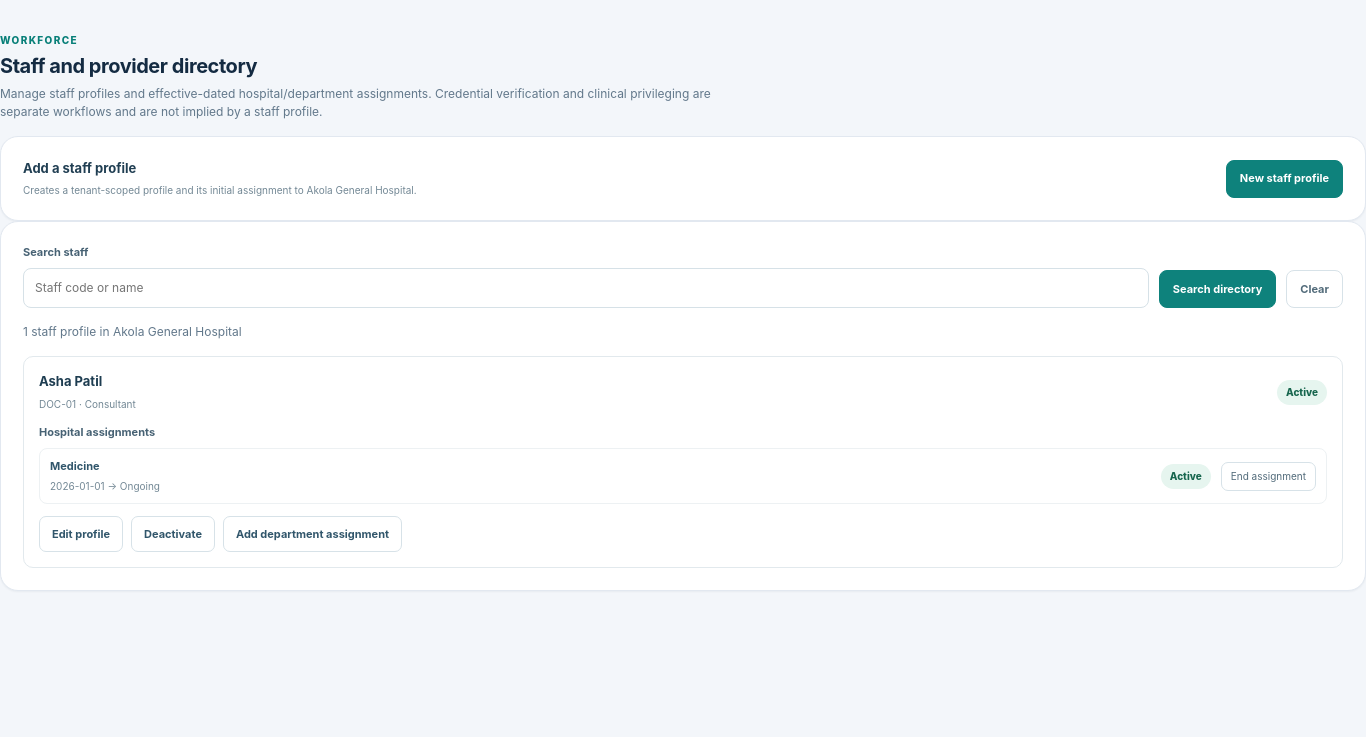
Test: staff management workspace › creates a staff profile with an initial department assignment
The width and height of the screenshot is (1366, 737).
Click the button "New staff profile" at (1284, 178), box [1226,160,1343,198]
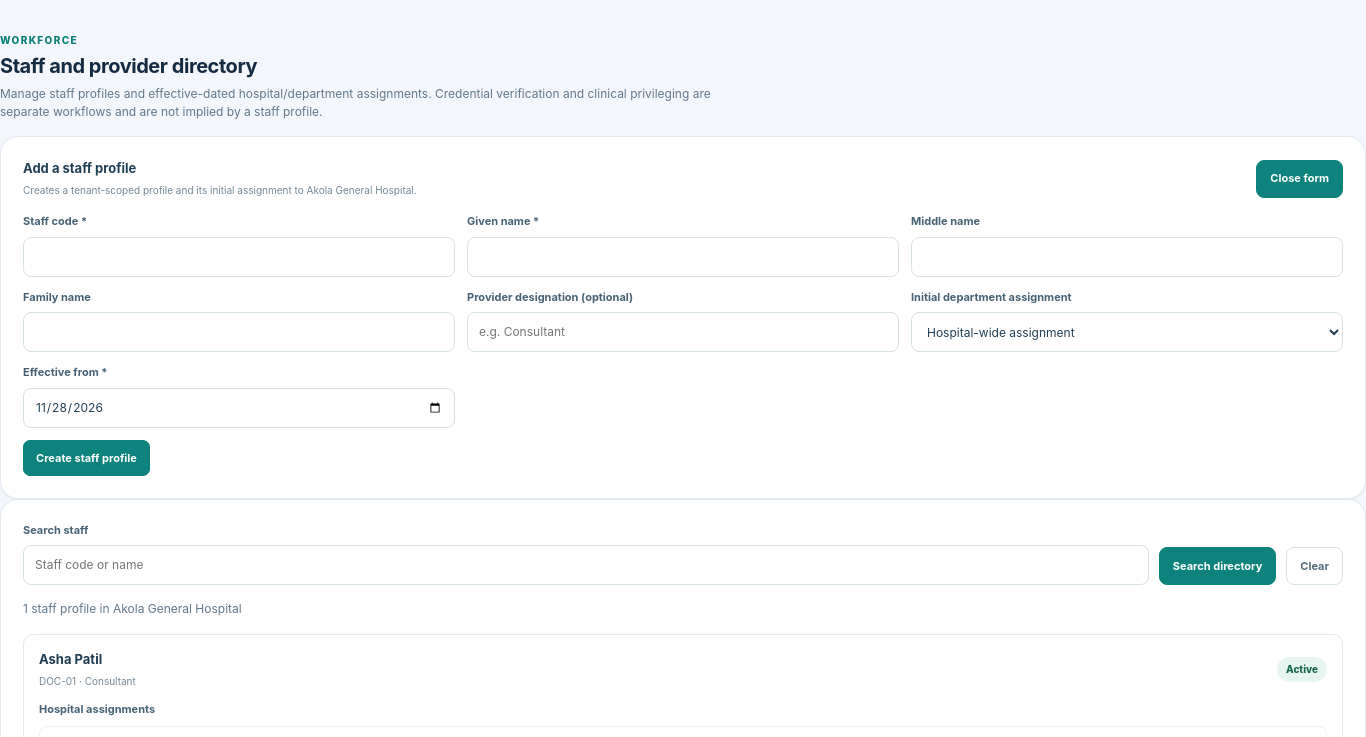
Type "DOC-02" into the field labelled "Staff code *" at (239, 257), box [23,237,455,277]
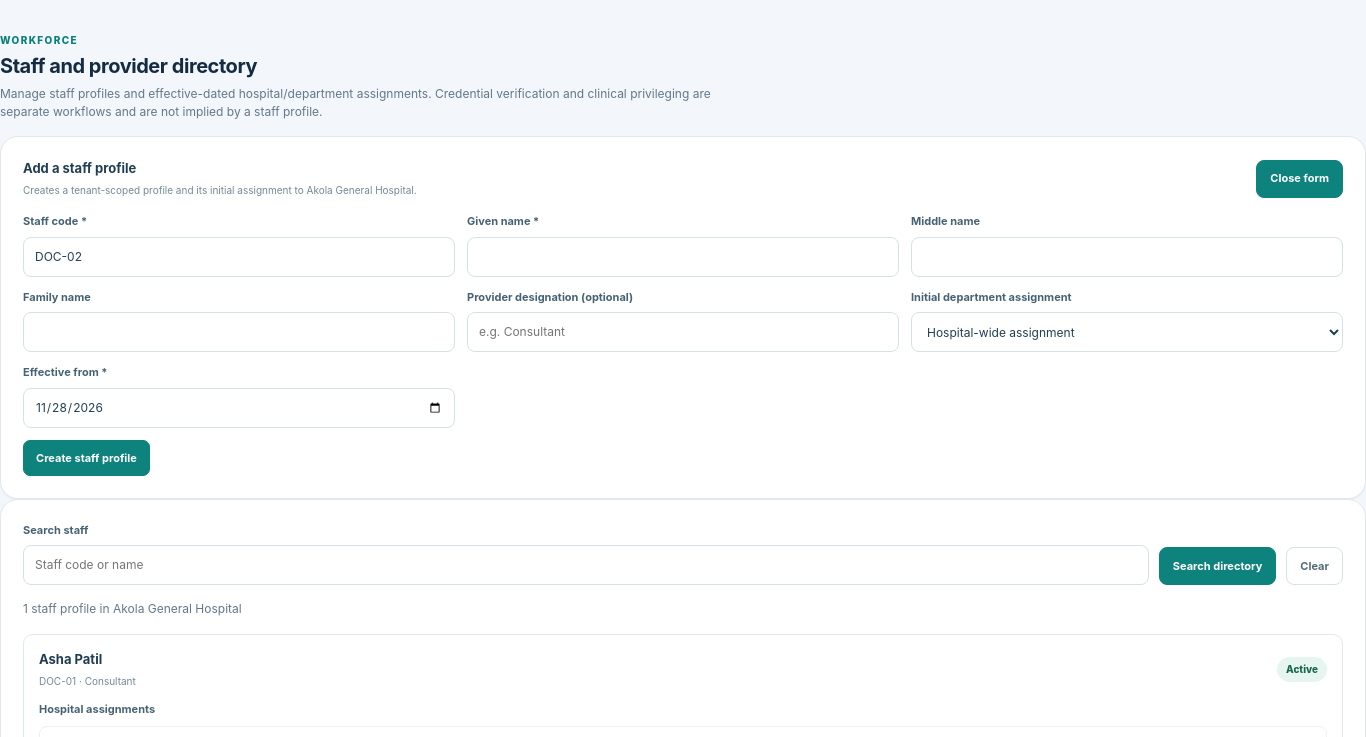
Type "Ravi" into the field labelled "Given name *" at (683, 257), box [467,237,899,277]
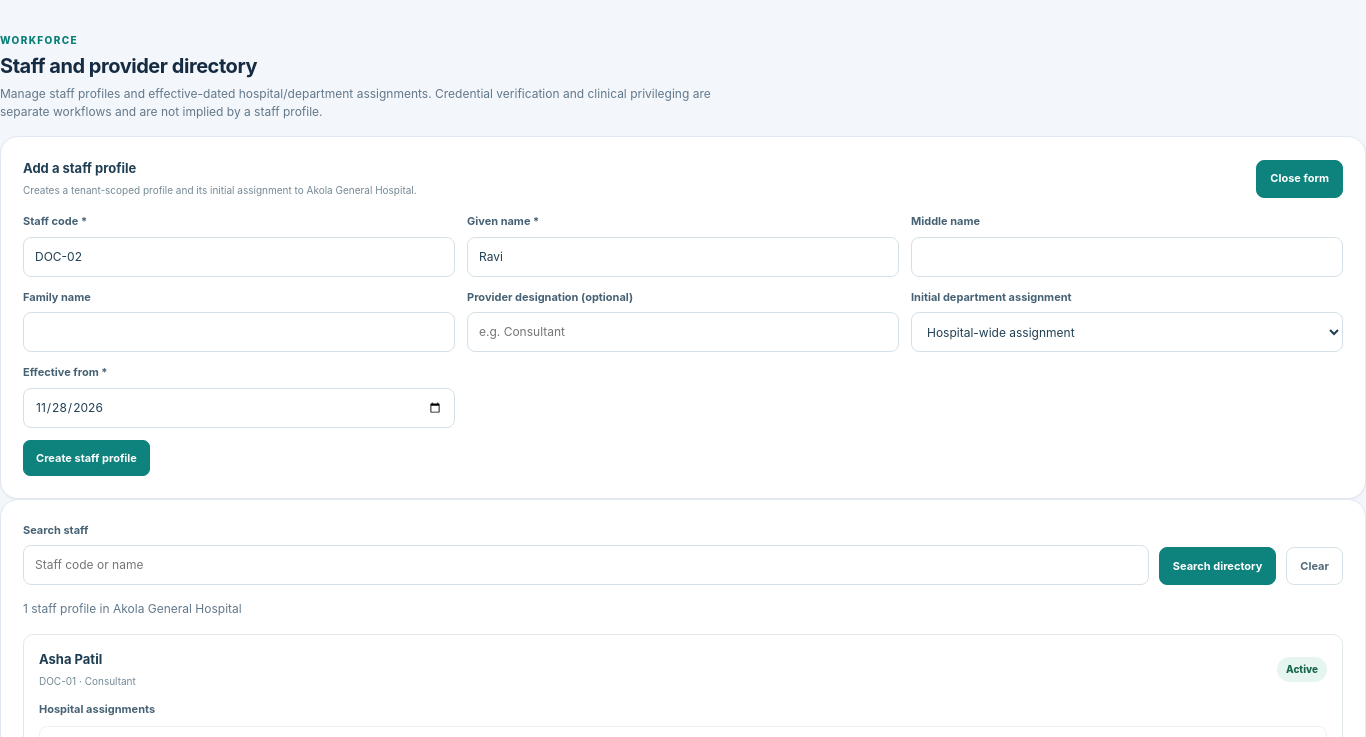
Select "Medicine" in the dropdown labelled "Initial department assignment" at (1127, 332), box [911,312,1343,352]
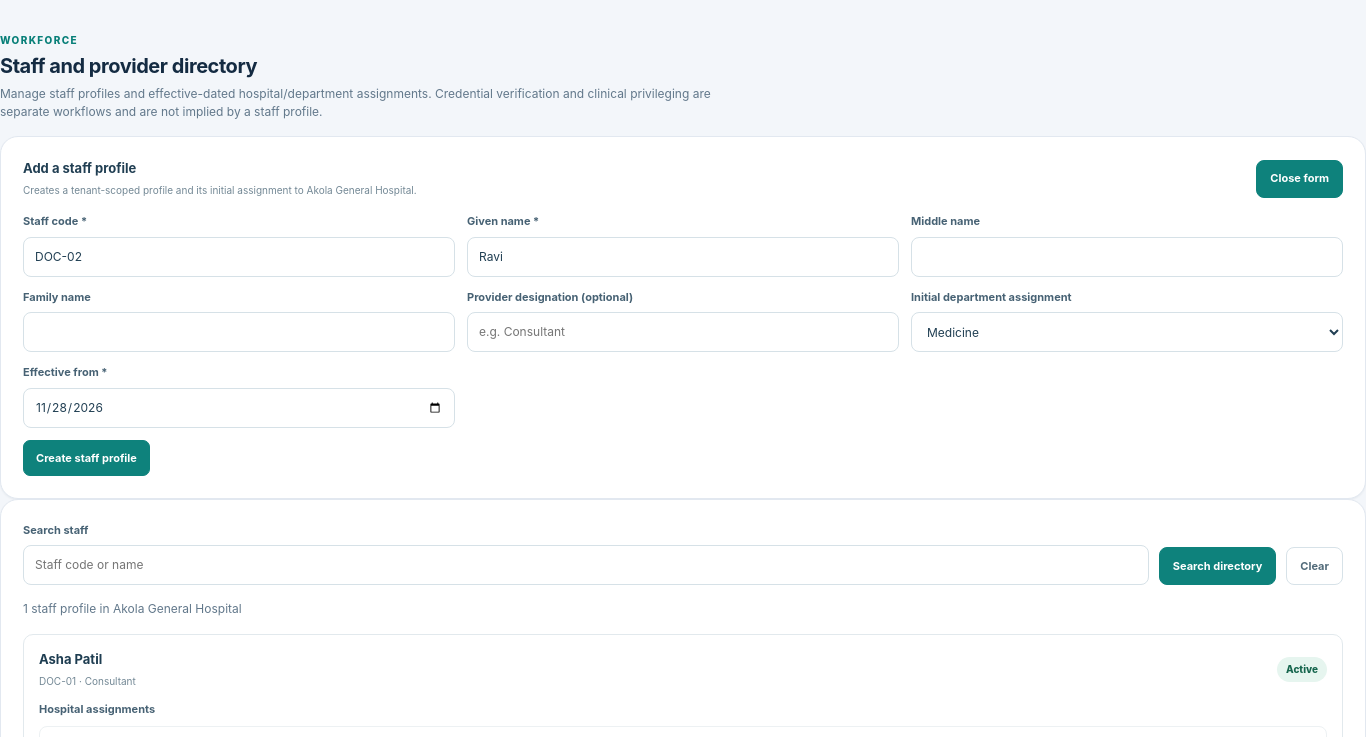
Click the button "Create staff profile" at (86, 458), box [23,440,150,476]
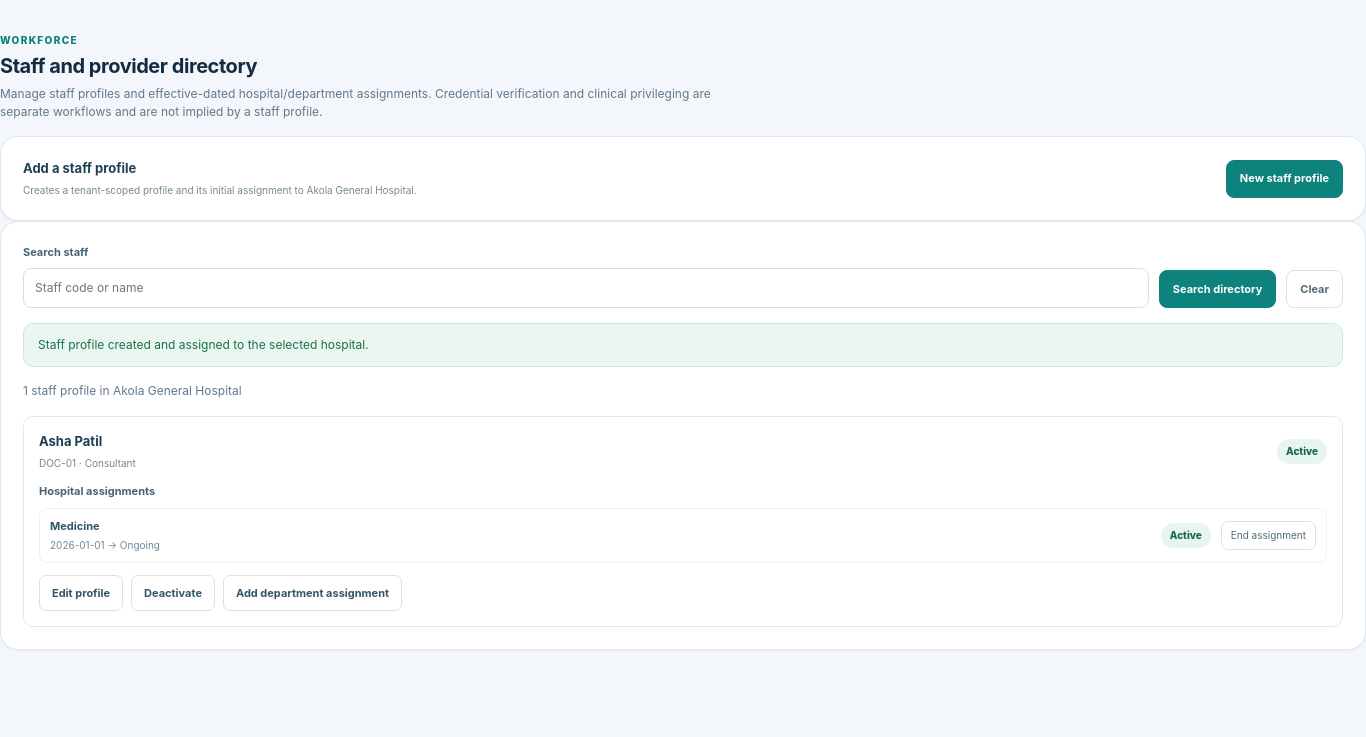
Expected: the text "Staff profile created and assigned to the selected hospital." is shown, [23,323,1343,367]
